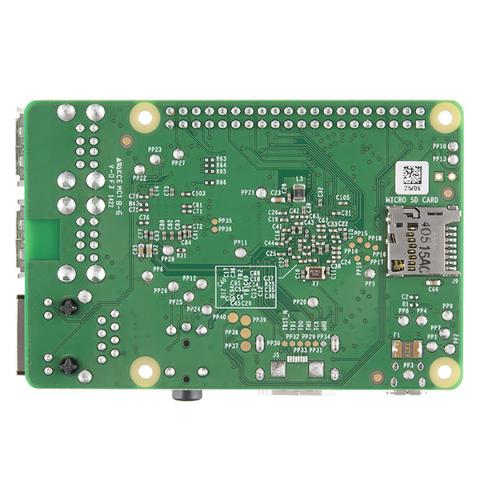Raspberry-Pi-1-Model-B-: (9, 93, 469, 406)
